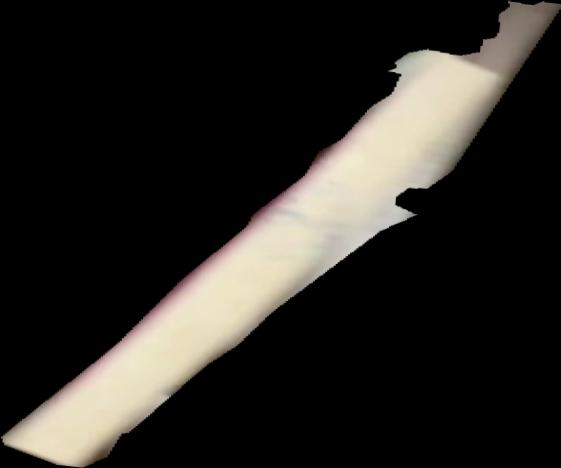backward: (1, 1, 561, 468)
